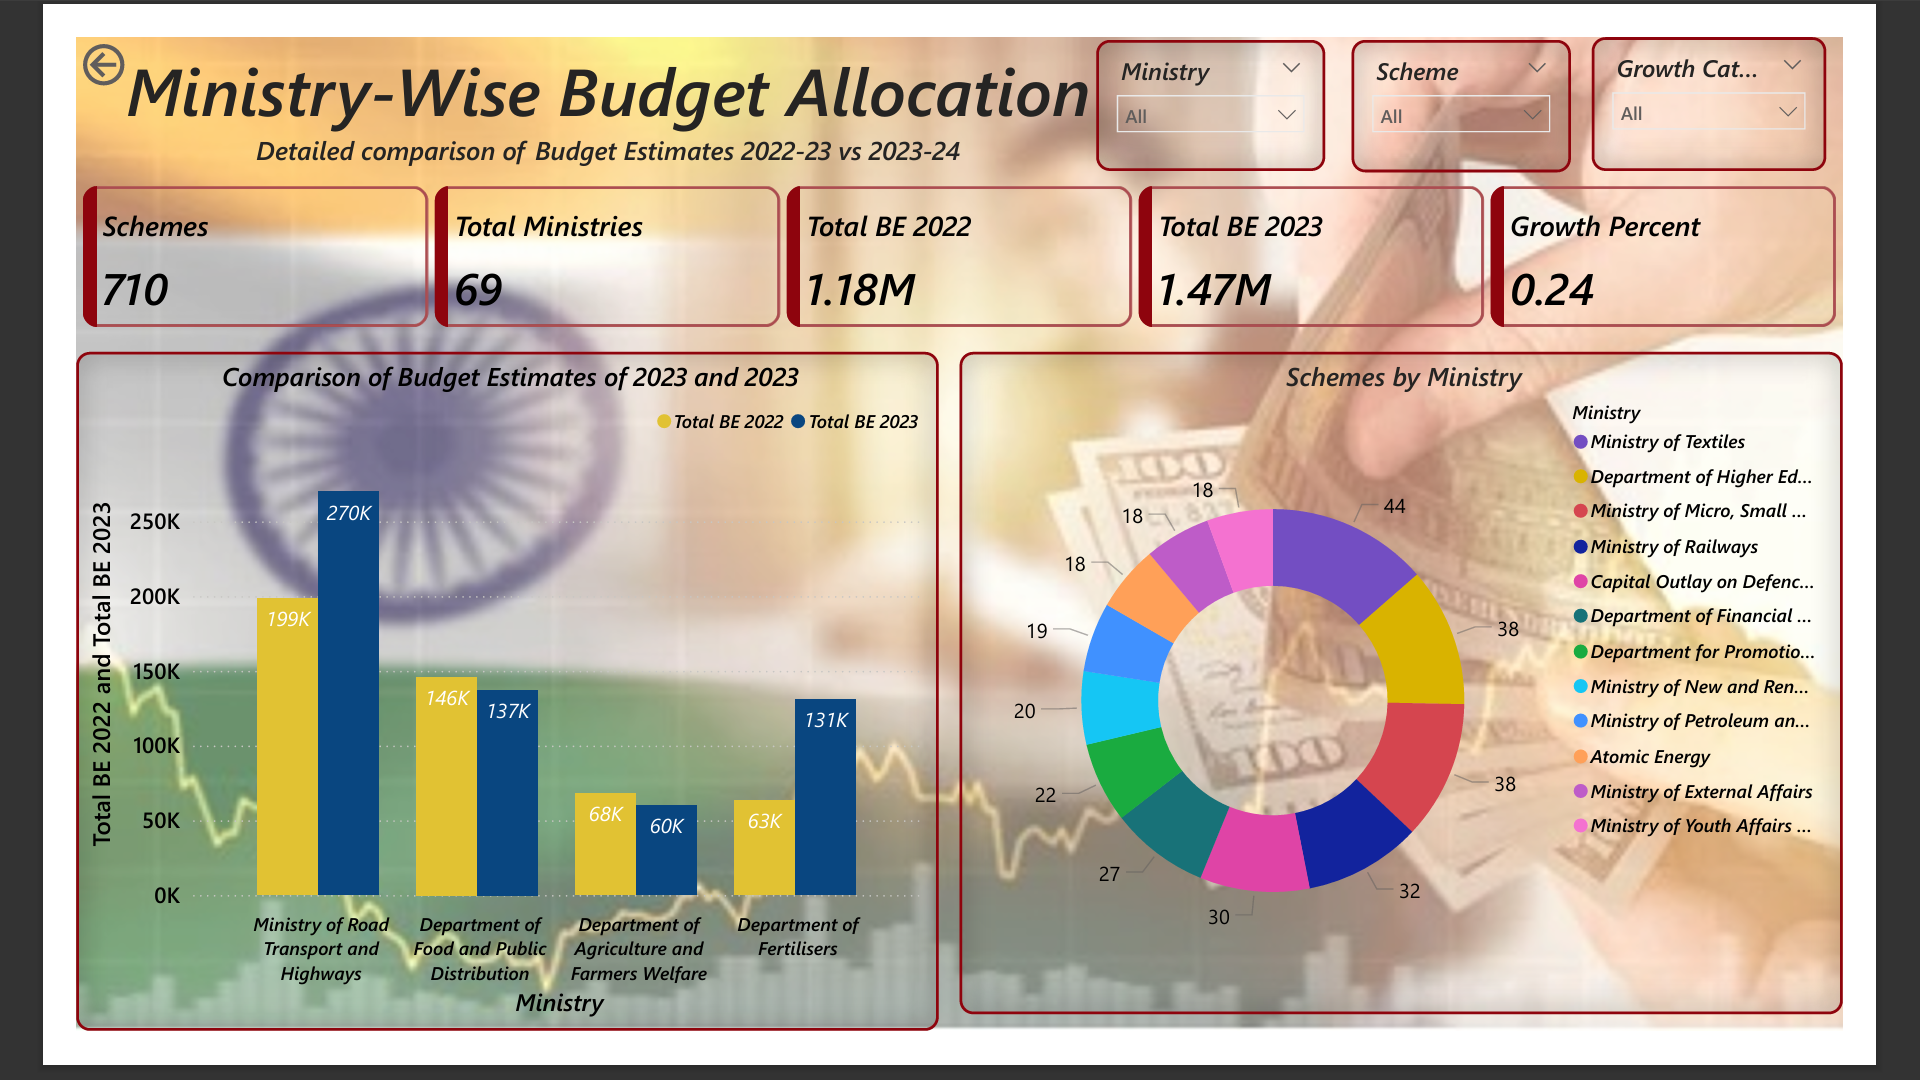

The dashboard page shown, as its layout file describes it:
{"tool":"powerbi","page":{"name":"ministry-wise allocation","canvas":[1280,720],"ordinal":1},"visuals":[{"type":"textbox","box":[0,0,771.4,98.6],"z":0},{"type":"slicer","fields":{"Values":["Unionbudget_cleaned.Growth Category"]},"box":[1098.3,0,169.5,96.6],"z":1000},{"type":"slicer","fields":{"Values":["Unionbudget_cleaned.Ministry"]},"box":[739,1.7,166.1,94.9],"z":2000},{"type":"slicer","fields":{"Values":["Unionbudget_cleaned.Scheme"]},"box":[923.7,1.7,159.3,96.6],"z":3000},{"type":"cardVisual","fields":{"Data":["Unionbudget_cleaned.Schemes","Unionbudget_cleaned.Total Ministries","Unionbudget_cleaned.Total BE 2022","Unionbudget_cleaned.Total BE 2023","Unionbudget_cleaned.Growth Percent"]},"box":[0,103.4,1280.4,111.3],"z":4000},{"type":"clusteredColumnChart","title":"Comparison of Budget Estimates of 2023 and 2023","fields":{"Category":["Unionbudget_cleaned.Ministry"],"Y":["Unionbudget_cleaned.Total BE 2022","Unionbudget_cleaned.Total BE 2023"]},"box":[0,228.3,625,491.7],"z":5000},{"type":"actionButton","box":[0,0,100,40],"z":6000},{"type":"donutChart","fields":{"Category":["Unionbudget_cleaned.Ministry"],"Y":["Unionbudget_cleaned.Schemes"]},"box":[640,228.3,640,480],"z":7000}]}

Visuals, with their boxes in screenshot pixels (x1, y1, x2, y2), scaled from the page's 1280x720 canvas onto the 1920x1080 screenshot:
textbox: BBox(0, 0, 1157, 148)
slicer - Unionbudget_cleaned.Growth Category: BBox(1647, 0, 1902, 145)
slicer - Unionbudget_cleaned.Ministry: BBox(1108, 3, 1358, 145)
slicer - Unionbudget_cleaned.Scheme: BBox(1386, 3, 1624, 147)
cardVisual - Unionbudget_cleaned.Schemes x Unionbudget_cleaned.Total Ministries: BBox(0, 155, 1919, 322)
"Comparison of Budget Estimates of 2023 and 2023" clusteredColumnChart: BBox(0, 342, 938, 1079)
actionButton: BBox(0, 0, 150, 60)
donutChart - Unionbudget_cleaned.Ministry x Unionbudget_cleaned.Schemes: BBox(960, 342, 1919, 1062)
